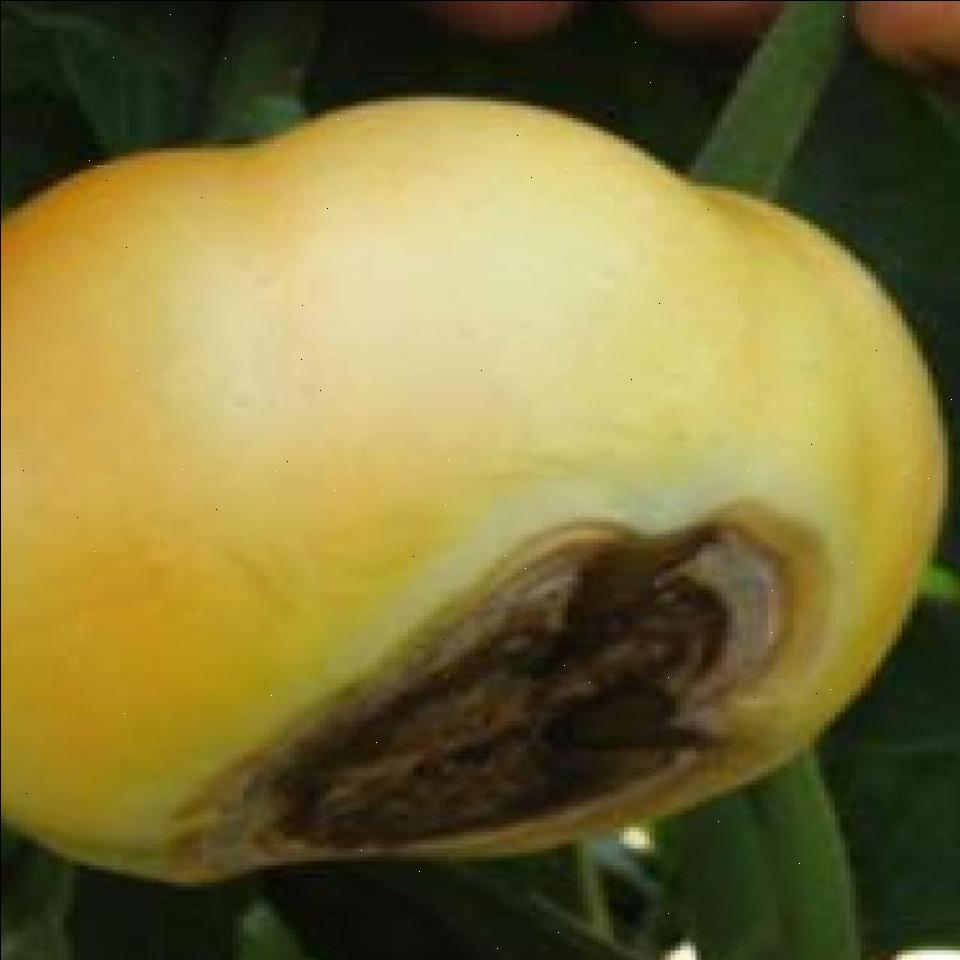Blossom_end_rot: (162, 495, 822, 864)
